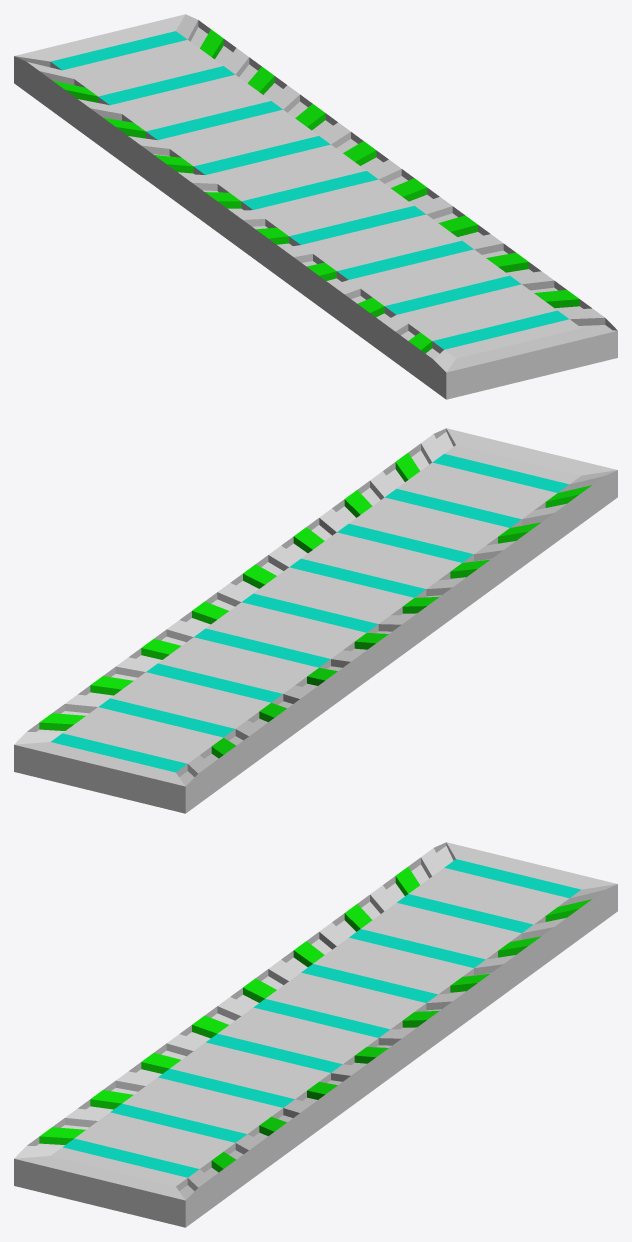
The picture shows the model from 3 angles, top to bottom: view 1: azimuth 30°, elevation 25°; view 2: azimuth 150°, elevation 25°; view 3: azimuth 330°, elevation 25°; orthographic projection.
Parts seen in each view (by area): view 1: Cube; view 2: Cube; view 3: Cube.
Boxes of the visible parts, x1,y1,x2,y2 form: Cube: (14, 14, 617, 399); Cube: (14, 428, 617, 813); Cube: (14, 842, 617, 1227).
Bounding box in the file's own units: 419 × 71.84 × 1827.
